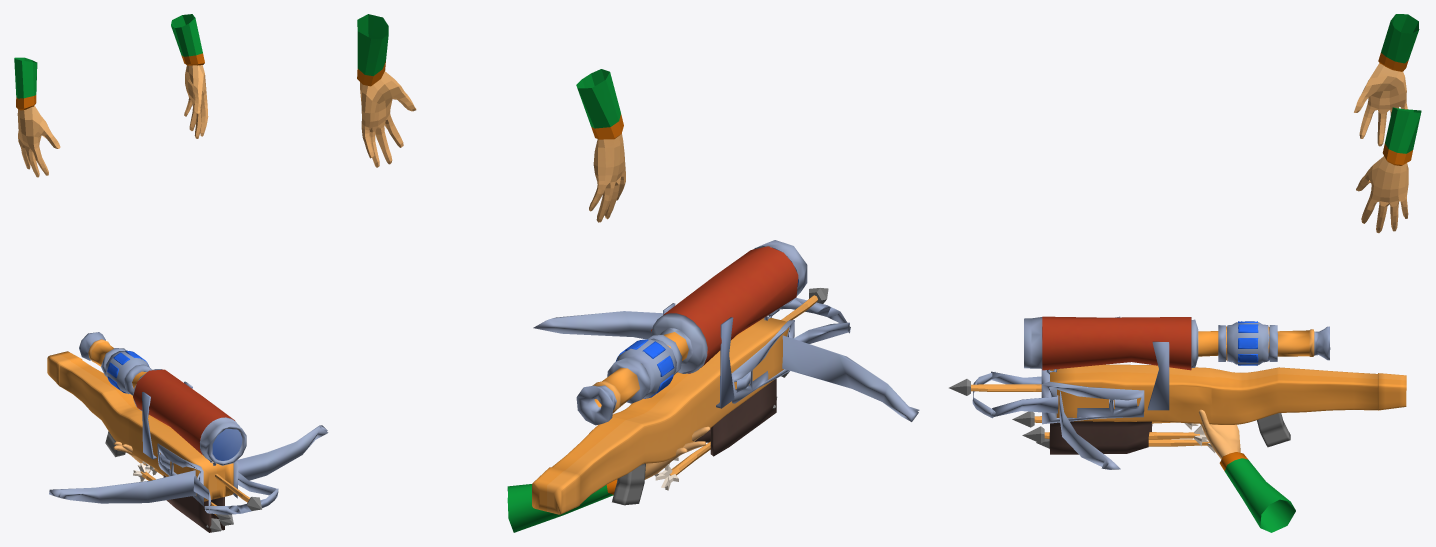
Rendered from crossbow.gltf.
3 renders of one model, left to right at view 1: azimuth 30°, elevation 25°; view 2: azimuth 150°, elevation 25°; view 3: azimuth 270°, elevation 25°, orthographic. The views are drawn at different scales.
Visible parts, largest first — view 1: Telescope, Crossbow, BowPart, Human 2.001, ArrowModel; view 2: Crossbow, Telescope, Human 2.001, BowPart, Human 2, ArrowModel.003; view 3: Crossbow, Telescope, Human 2.001, BowPart, Human 2, ArrowModel, ArrowModel.002.
Part boxes in pixels (x1=…): Telescope: x1=79, y1=332, x2=246, y2=465; Crossbow: x1=47, y1=351, x2=233, y2=532; BowPart: x1=49, y1=425, x2=328, y2=514; Human 2.001: x1=14, y1=14, x2=208, y2=177; ArrowModel: x1=215, y1=474, x2=261, y2=510; Crossbow: x1=532, y1=317, x2=789, y2=514; Telescope: x1=576, y1=240, x2=807, y2=425; Human 2.001: x1=357, y1=14, x2=625, y2=222; BowPart: x1=533, y1=297, x2=919, y2=421; Human 2: x1=507, y1=426, x2=710, y2=532; ArrowModel.003: x1=654, y1=397, x2=777, y2=490; Crossbow: x1=1049, y1=364, x2=1406, y2=454; Telescope: x1=1024, y1=316, x2=1330, y2=410; Human 2.001: x1=1354, y1=14, x2=1421, y2=233; BowPart: x1=972, y1=316, x2=1144, y2=469; Human 2: x1=1198, y1=409, x2=1295, y2=532; ArrowModel: x1=949, y1=379, x2=1041, y2=395; ArrowModel.002: x1=1022, y1=425, x2=1208, y2=445.
Bounding box in the file's own units: 0.7997 × 1.11 × 1.05.
